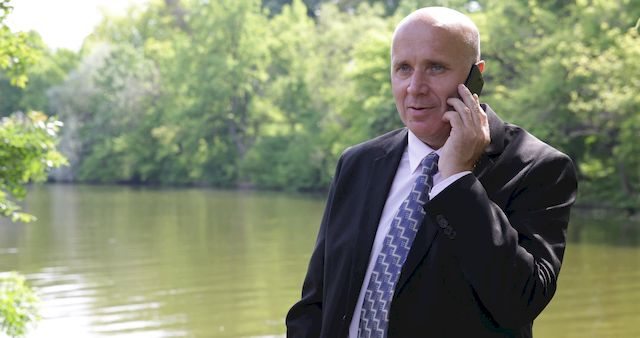phone: (457, 72, 483, 122)
talk: (388, 51, 495, 175)
